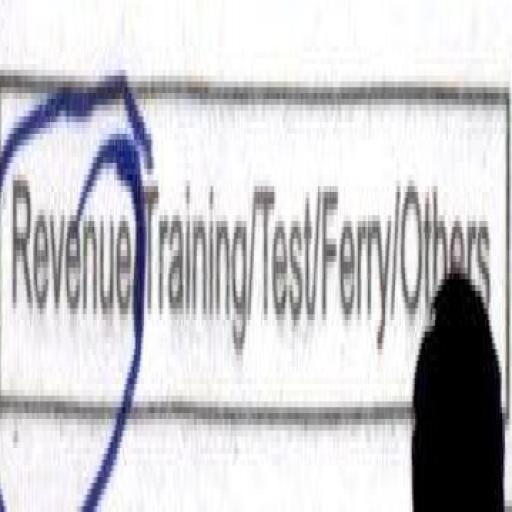check: (0, 58, 146, 512)
